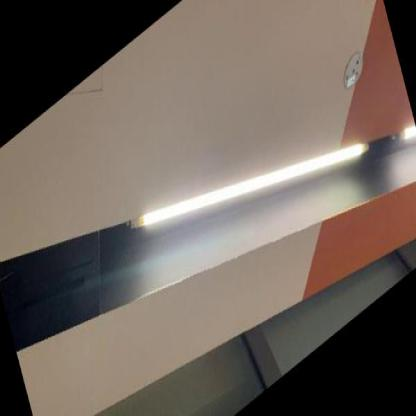light_on: (128, 43, 373, 338), (392, 107, 415, 167)
